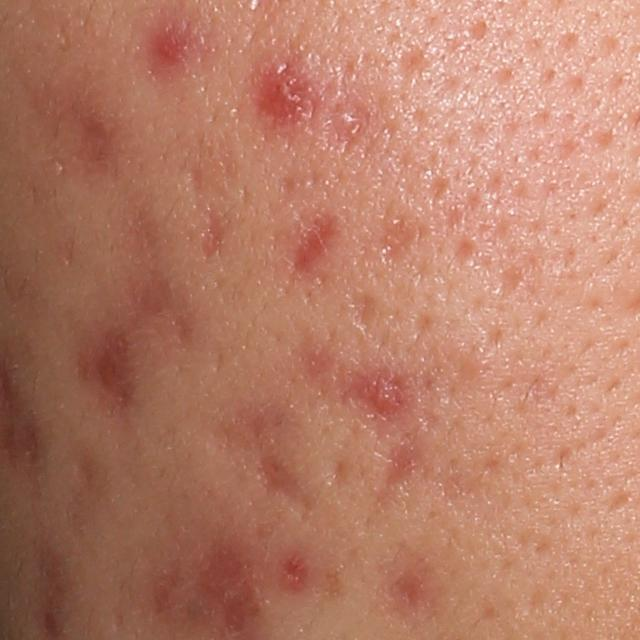atrophic_scar: (47, 314, 148, 425), (210, 405, 302, 505), (187, 144, 233, 265), (369, 433, 428, 517), (372, 204, 431, 269), (287, 212, 342, 278), (496, 251, 532, 307), (396, 40, 434, 82), (348, 288, 376, 337), (405, 309, 440, 346), (426, 168, 453, 206), (325, 453, 351, 490), (600, 492, 636, 515), (450, 239, 473, 267)
papule: (266, 72, 305, 116), (361, 373, 400, 414), (154, 33, 184, 63)
